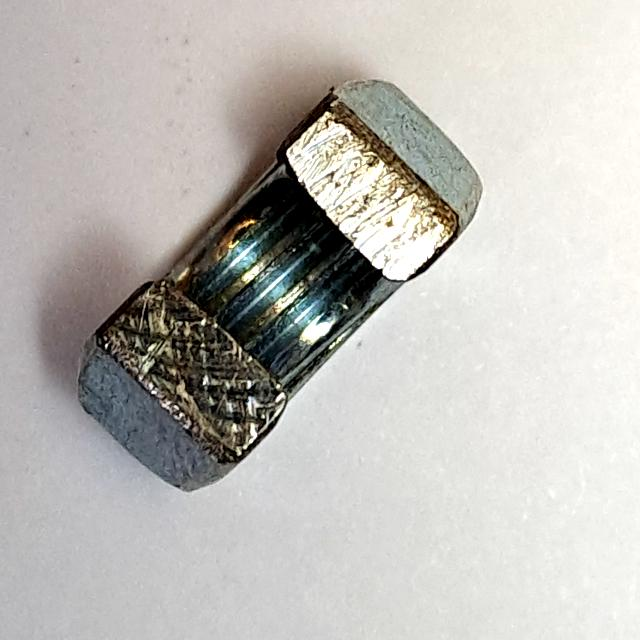Side-Fracture: (66, 70, 496, 508)
